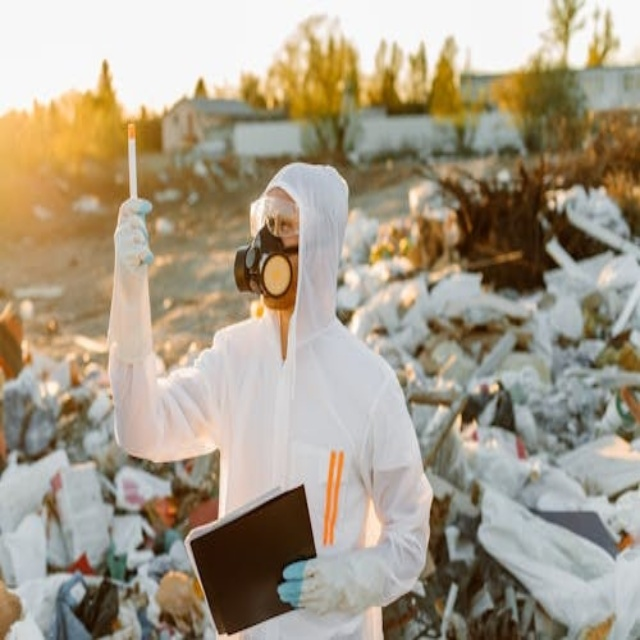Gafas: (250, 196, 301, 239)
Guantes: (279, 548, 389, 617), (115, 197, 155, 275)
Mascara: (233, 223, 297, 301)
